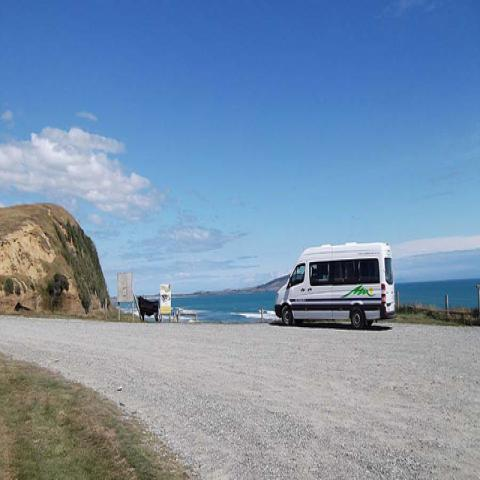bus: (275, 242, 397, 329)
